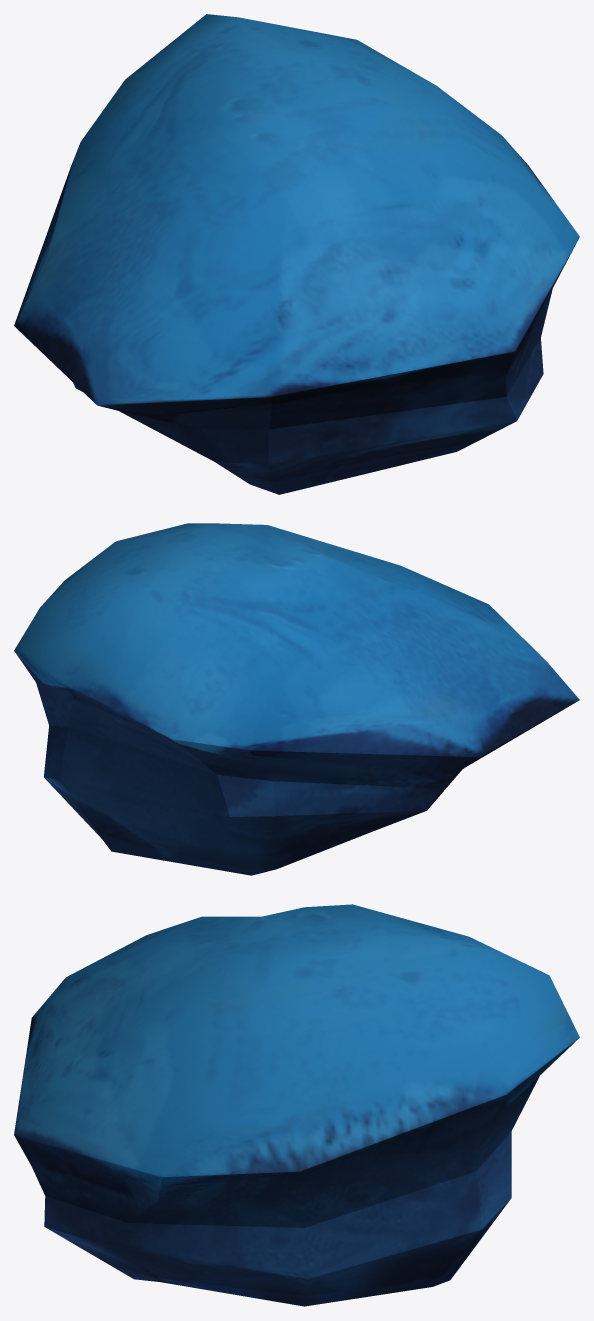
The model's file is rock_smaller.fbx.
3 renders of one model, top to bottom at view 1: azimuth 30°, elevation 25°; view 2: azimuth 150°, elevation 25°; view 3: azimuth 270°, elevation 25°, orthographic. The views are drawn at different scales.
Parts seen in each view (by area): view 1: zooshi_rock_sm; view 2: zooshi_rock_sm; view 3: zooshi_rock_sm.
Boxes of the visible parts, x1=… form: zooshi_rock_sm: x1=14, y1=14, x2=579, y2=494; zooshi_rock_sm: x1=14, y1=523, x2=579, y2=875; zooshi_rock_sm: x1=14, y1=904, x2=579, y2=1306.
Bounding box in the file's own units: 1.27 × 0.7574 × 1.22.
